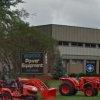Tractor: (57, 66, 100, 100)
